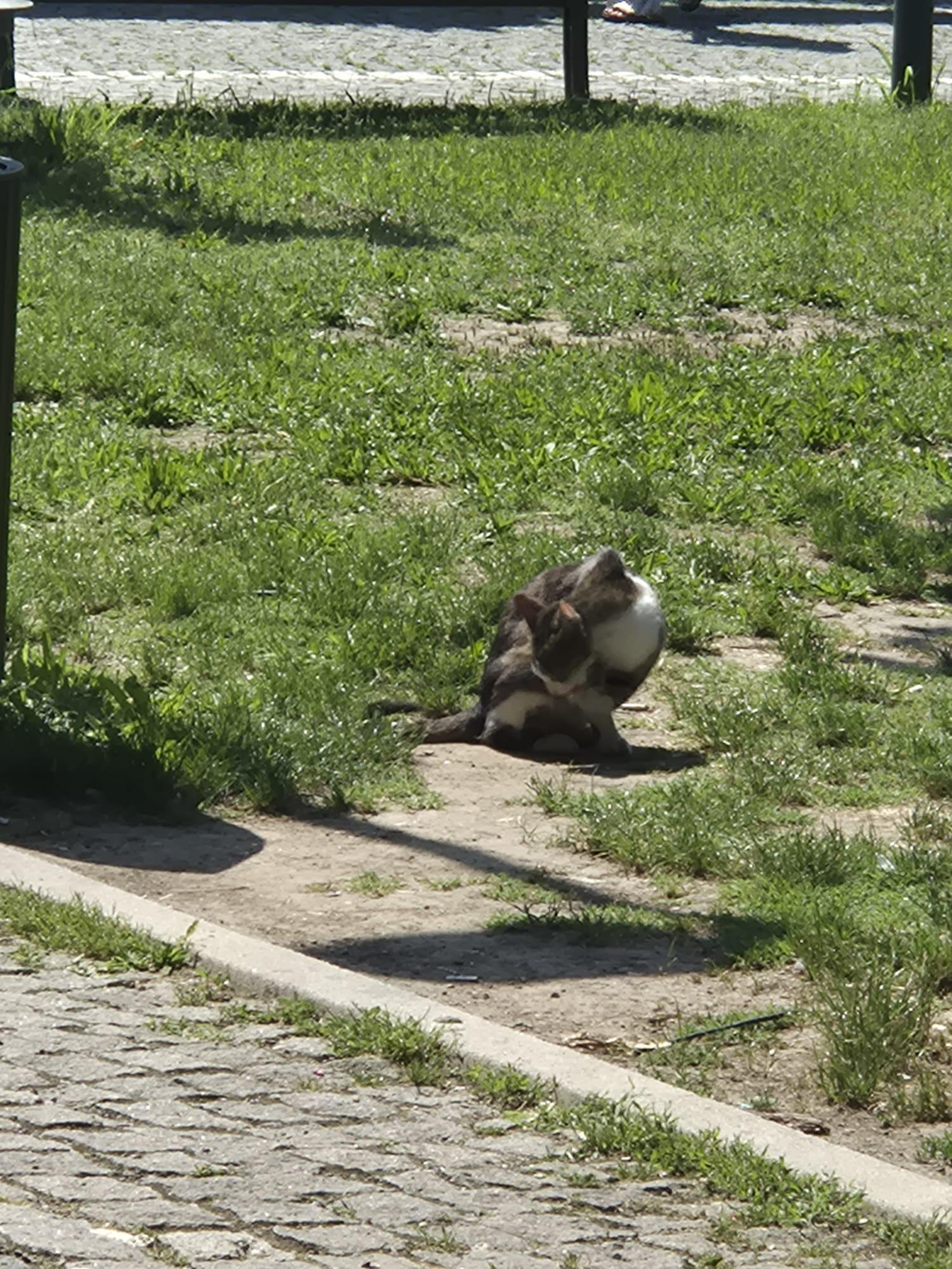macka: (363, 547, 667, 757)
